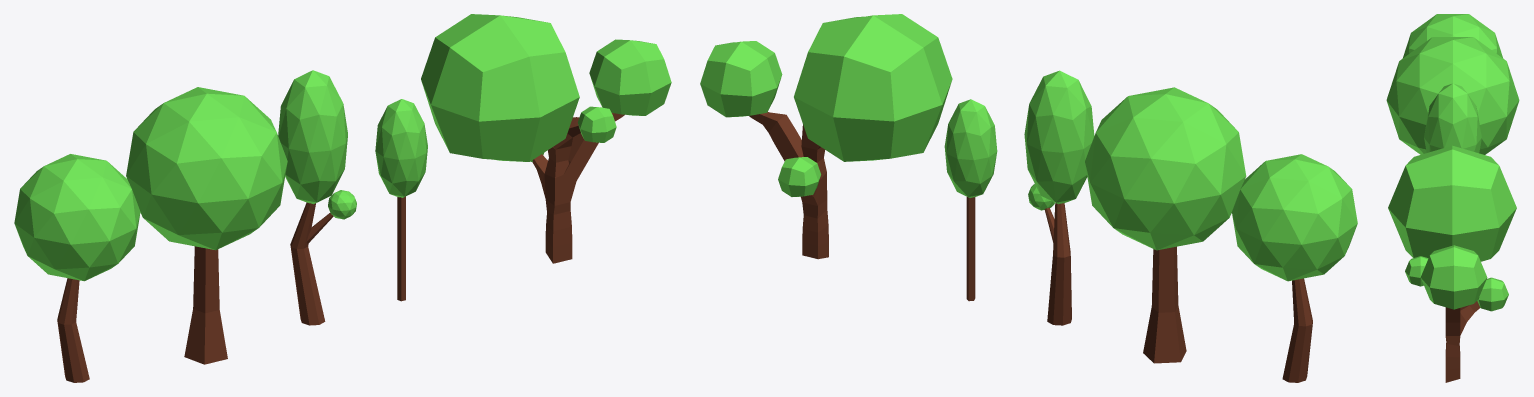
The model's file is Деревья.fbx.
3 views of the same model, side by side, from view 1: azimuth 30°, elevation 25°; view 2: azimuth 150°, elevation 25°; view 3: azimuth 270°, elevation 25° (orthographic). The views are drawn at different scales.
Parts seen in each view (by area): view 1: Дерево5, Дерево2, Дерево1, Дерево3, Дерево4; view 2: Дерево5, Дерево2, Дерево1, Дерево3, Дерево4; view 3: Дерево5, Дерево2, Дерево3, Дерево1.
Boxes of the visible parts, x1,y1,x2,y2 form: Дерево5: (421,14,671,263); Дерево2: (126,87,287,364); Дерево1: (14,154,140,382); Дерево3: (278,70,356,325); Дерево4: (375,99,427,301); Дерево5: (700,14,952,259); Дерево2: (1085,87,1246,363); Дерево1: (1232,154,1357,382); Дерево3: (1024,70,1094,325); Дерево4: (944,99,997,301); Дерево5: (1388,145,1516,382); Дерево2: (1386,37,1519,154); Дерево3: (1424,83,1481,153); Дерево1: (1402,14,1503,58).
Bounding box in the file's own units: 898 × 358 × 200.
